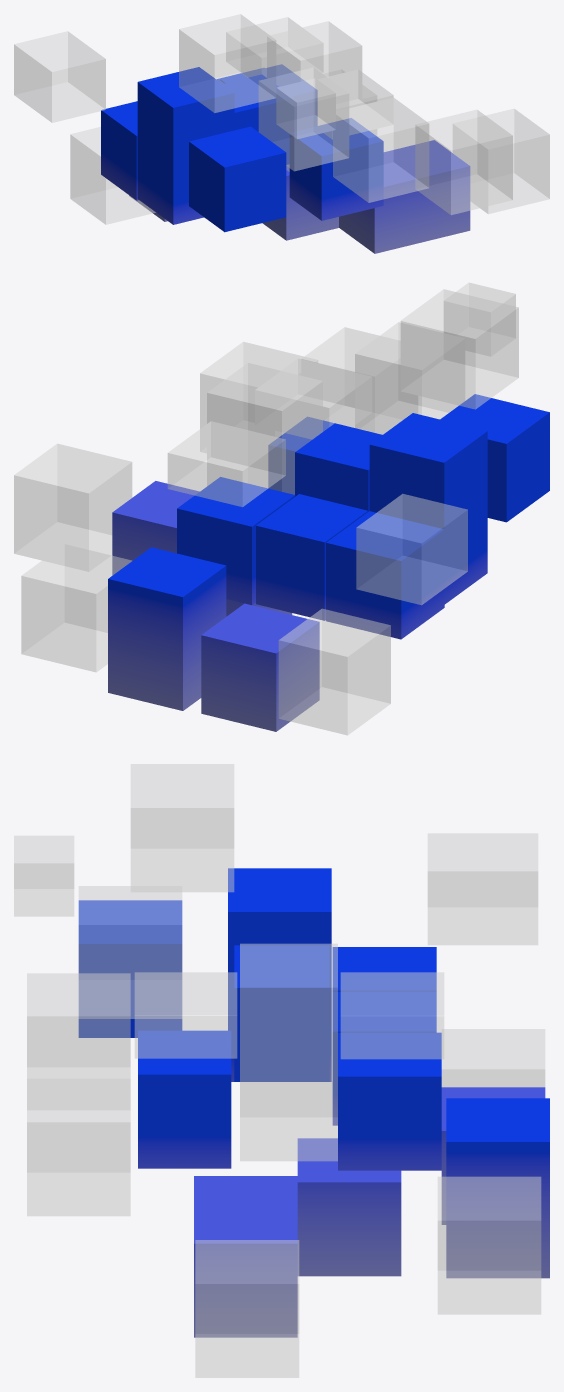
File: cubes_loko.glb
The picture shows the model from 3 angles, top to bottom: view 1: azimuth 30°, elevation 25°; view 2: azimuth 150°, elevation 25°; view 3: azimuth 270°, elevation 25°; orthographic projection. The views are drawn at different scales.
Parts seen in each view (by area): view 1: core_010.010, core_010.003, core_010.001, border_010.007, border_010.004, core_010.007, border_010.008, border_010.006, border_010.010, border_010.002, border_010.001, border_010.003 (+8 smaller); view 2: core_010.004, core_010.010, core_010.005, core_010.008, border_010.009, border_010.001, border_010.006, border_010.008, border_010.002, border_010.005, border_010.010, core_010 (+10 smaller); view 3: border_010.001, core_010.004, core_010.003, border_010.005, border_010.006, core_010.009, border_010.007, border_010.004, core_010.001, border_010.010, border_010.008, core_010.006 (+11 smaller).
Part boxes in pixels (x1,y1,x2,y2): core_010.010: (137, 67, 234, 224); core_010.003: (339, 140, 470, 253); core_010.001: (189, 126, 286, 232); border_010.007: (415, 109, 512, 214); border_010.004: (333, 97, 429, 202); core_010.007: (289, 118, 383, 220); border_010.008: (179, 14, 276, 112); border_010.006: (453, 108, 549, 213); border_010.010: (258, 67, 349, 171); border_010.002: (14, 31, 105, 122); border_010.001: (267, 21, 362, 171); border_010.003: (226, 17, 323, 77); core_010.004: (108, 547, 226, 710); core_010.010: (369, 413, 487, 604); core_010.005: (326, 511, 444, 639); core_010.008: (201, 603, 319, 731); border_010.009: (278, 608, 390, 735); border_010.001: (207, 363, 322, 494); border_010.006: (14, 443, 132, 571); border_010.008: (400, 289, 518, 409); border_010.002: (356, 494, 467, 605); border_010.005: (21, 544, 131, 672); border_010.010: (355, 322, 464, 434); core_010: (256, 494, 367, 620); border_010.001: (240, 943, 337, 1161); core_010.004: (446, 1098, 549, 1278); core_010.003: (194, 1176, 297, 1337); border_010.005: (437, 1176, 541, 1314); border_010.006: (195, 1240, 299, 1377); core_010.009: (338, 1032, 441, 1170); border_010.007: (27, 1078, 130, 1216); border_010.004: (27, 973, 130, 1109); core_010.001: (78, 900, 182, 1037); border_010.010: (78, 886, 182, 1018); border_010.008: (130, 764, 234, 892); core_010.006: (234, 945, 329, 1081).
Size of the model in its own units: 13.53 by 8.02 by 10.34.
Materials: 2 (2 with a texture image).
